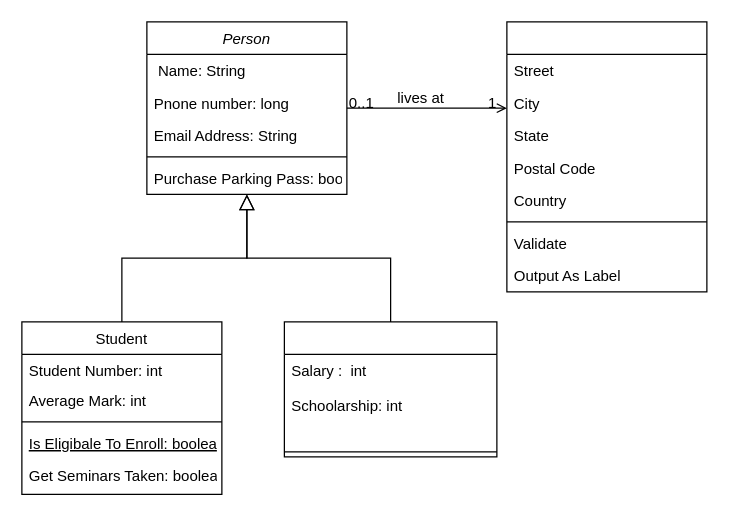
Image size: 729x518. Some labels were removed from this diagram. Each missing label, with the box of its shape:
Address: (506, 21, 707, 292)
Professor: (283, 321, 497, 457)
